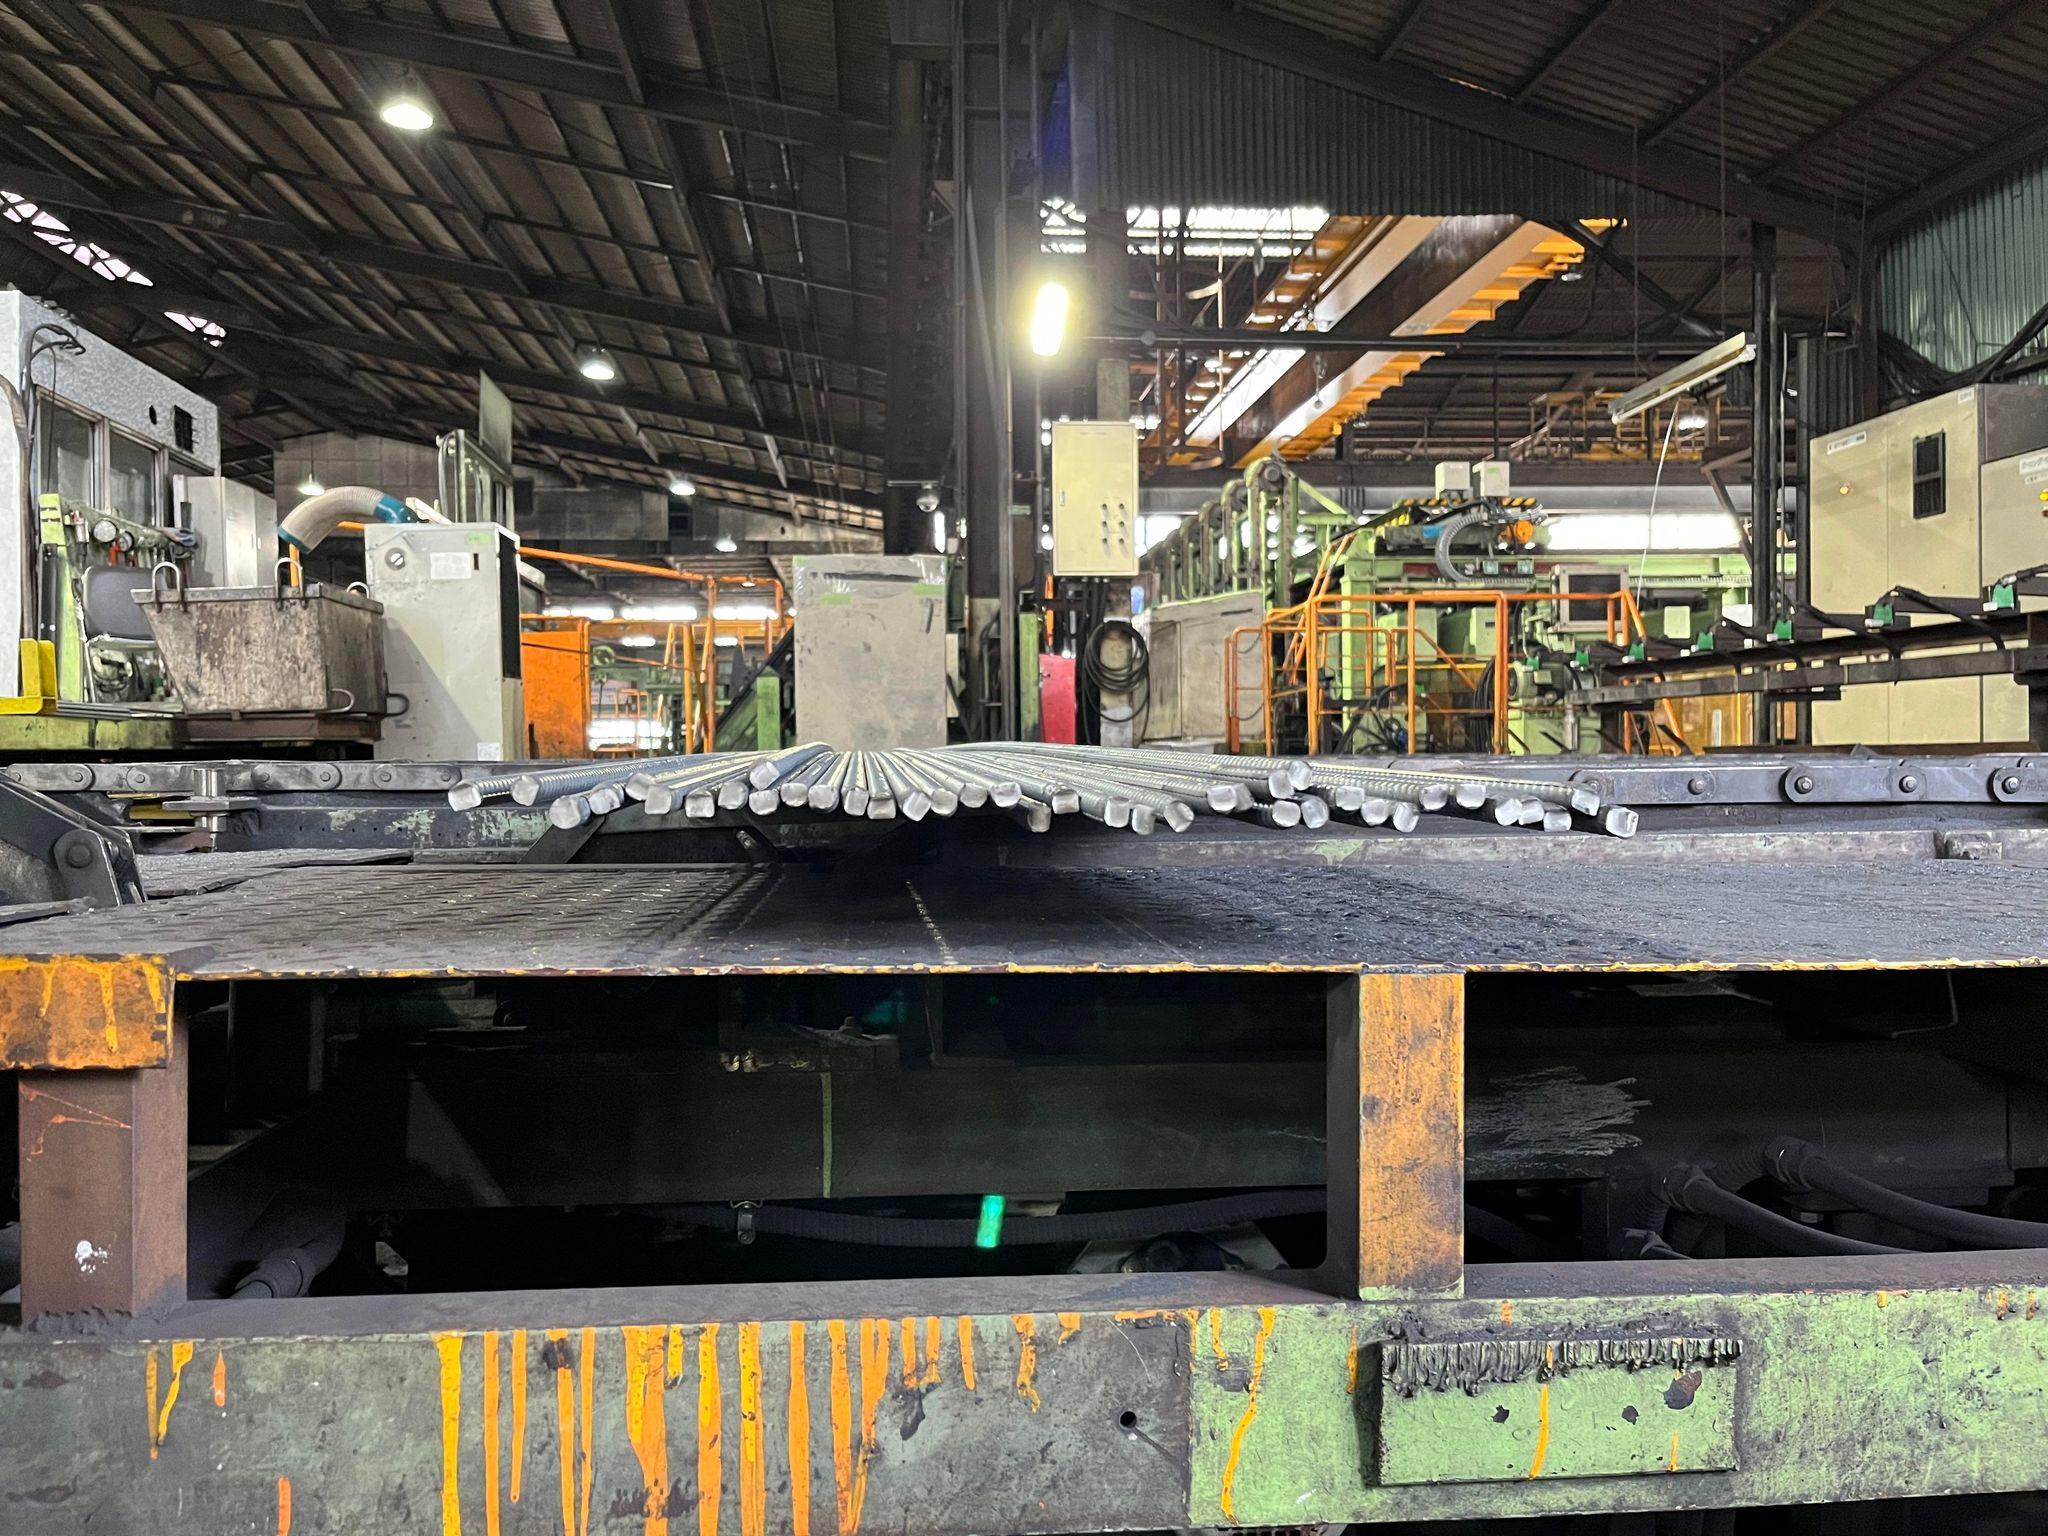rod: (548, 792, 587, 831), (745, 757, 784, 792), (445, 779, 484, 813), (714, 778, 748, 815), (1451, 778, 1488, 812), (1605, 807, 1642, 841), (1163, 799, 1197, 834), (1268, 799, 1303, 833), (1301, 794, 1332, 833), (510, 771, 542, 807), (1285, 757, 1317, 792), (1101, 794, 1132, 829), (1392, 799, 1422, 834), (684, 787, 716, 820), (1517, 792, 1543, 833), (589, 786, 622, 816), (643, 784, 677, 815), (866, 789, 897, 823), (901, 789, 932, 823), (1264, 766, 1295, 800), (990, 779, 1026, 808), (1050, 786, 1082, 816), (622, 771, 656, 800), (842, 783, 871, 816), (930, 783, 958, 818), (1026, 800, 1053, 836), (958, 779, 989, 810), (1492, 797, 1522, 828), (808, 783, 840, 812), (1206, 781, 1235, 813), (1335, 783, 1367, 812), (1572, 787, 1601, 820), (1130, 800, 1156, 836), (1359, 797, 1388, 828), (1419, 783, 1450, 812), (1543, 805, 1572, 836), (748, 791, 780, 818), (780, 779, 806, 808), (1235, 783, 1255, 812)
